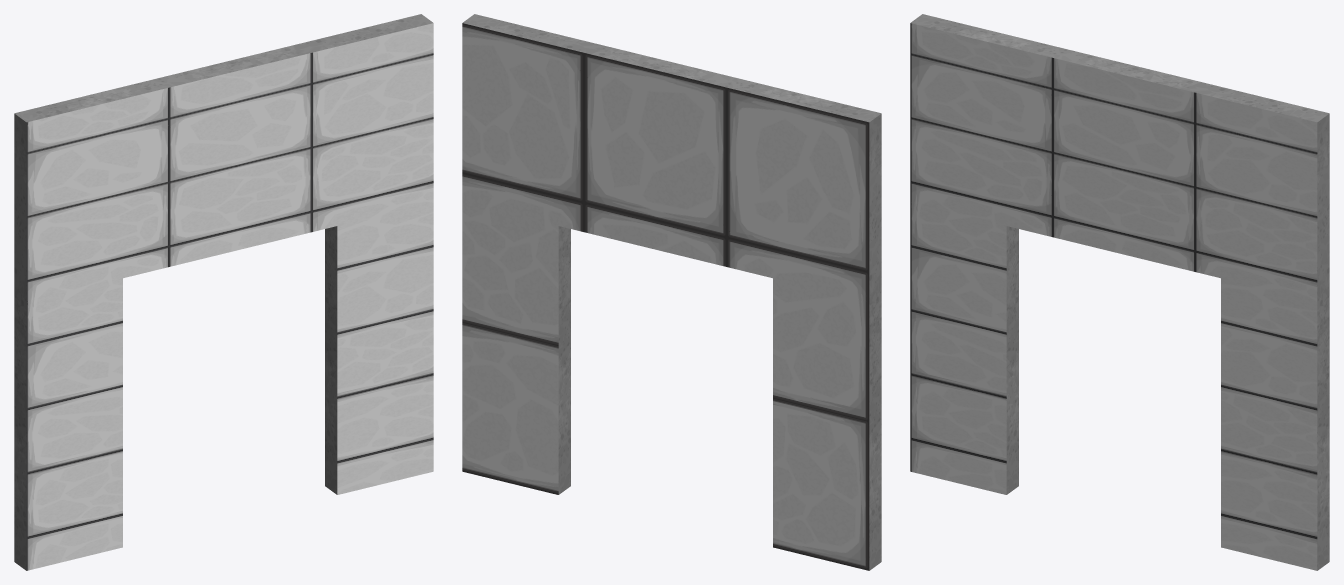
The model's file is SM_Inner_Wall_Double_Door.fbx.
3 renders of one model, left to right at view 1: azimuth 30°, elevation 25°; view 2: azimuth 150°, elevation 25°; view 3: azimuth 330°, elevation 25°, orthographic.
Visible parts, largest first — view 1: SM_Inner_Wall_Double_Door; view 2: SM_Inner_Wall_Double_Door; view 3: SM_Inner_Wall_Double_Door.
Boxes of the visible parts, box(x1,y1,x2,y2) form: SM_Inner_Wall_Double_Door: box(14, 14, 433, 570); SM_Inner_Wall_Double_Door: box(462, 14, 881, 570); SM_Inner_Wall_Double_Door: box(910, 14, 1329, 570).
Bounding box in the file's own units: 380 × 400 × 20.
